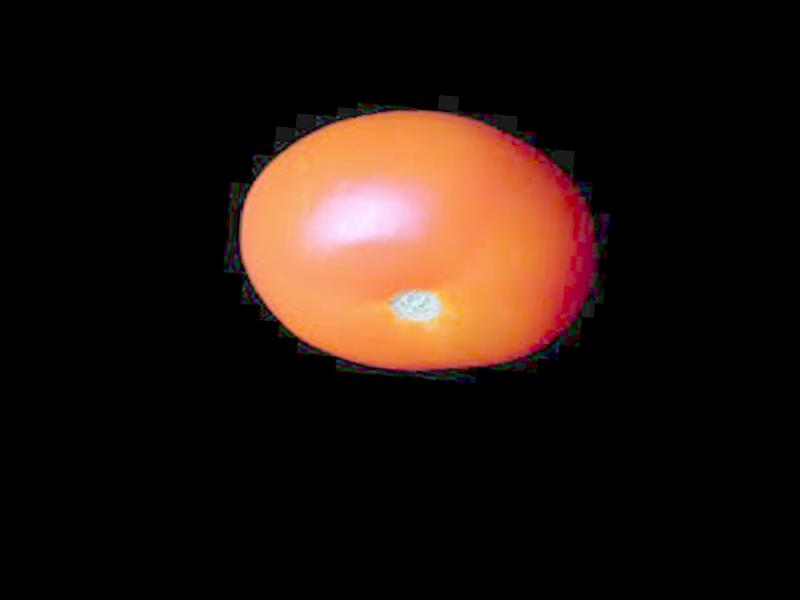Tomato: (229, 97, 604, 383)
